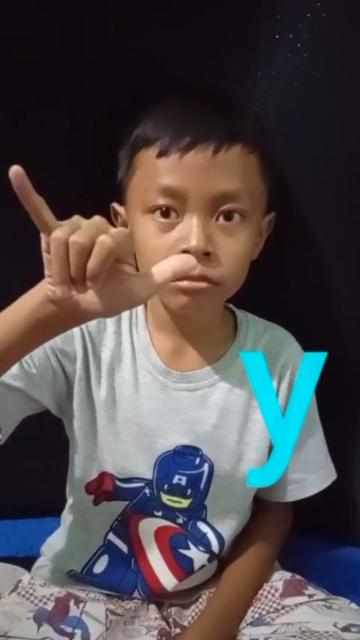Y: (1, 154, 199, 320)
